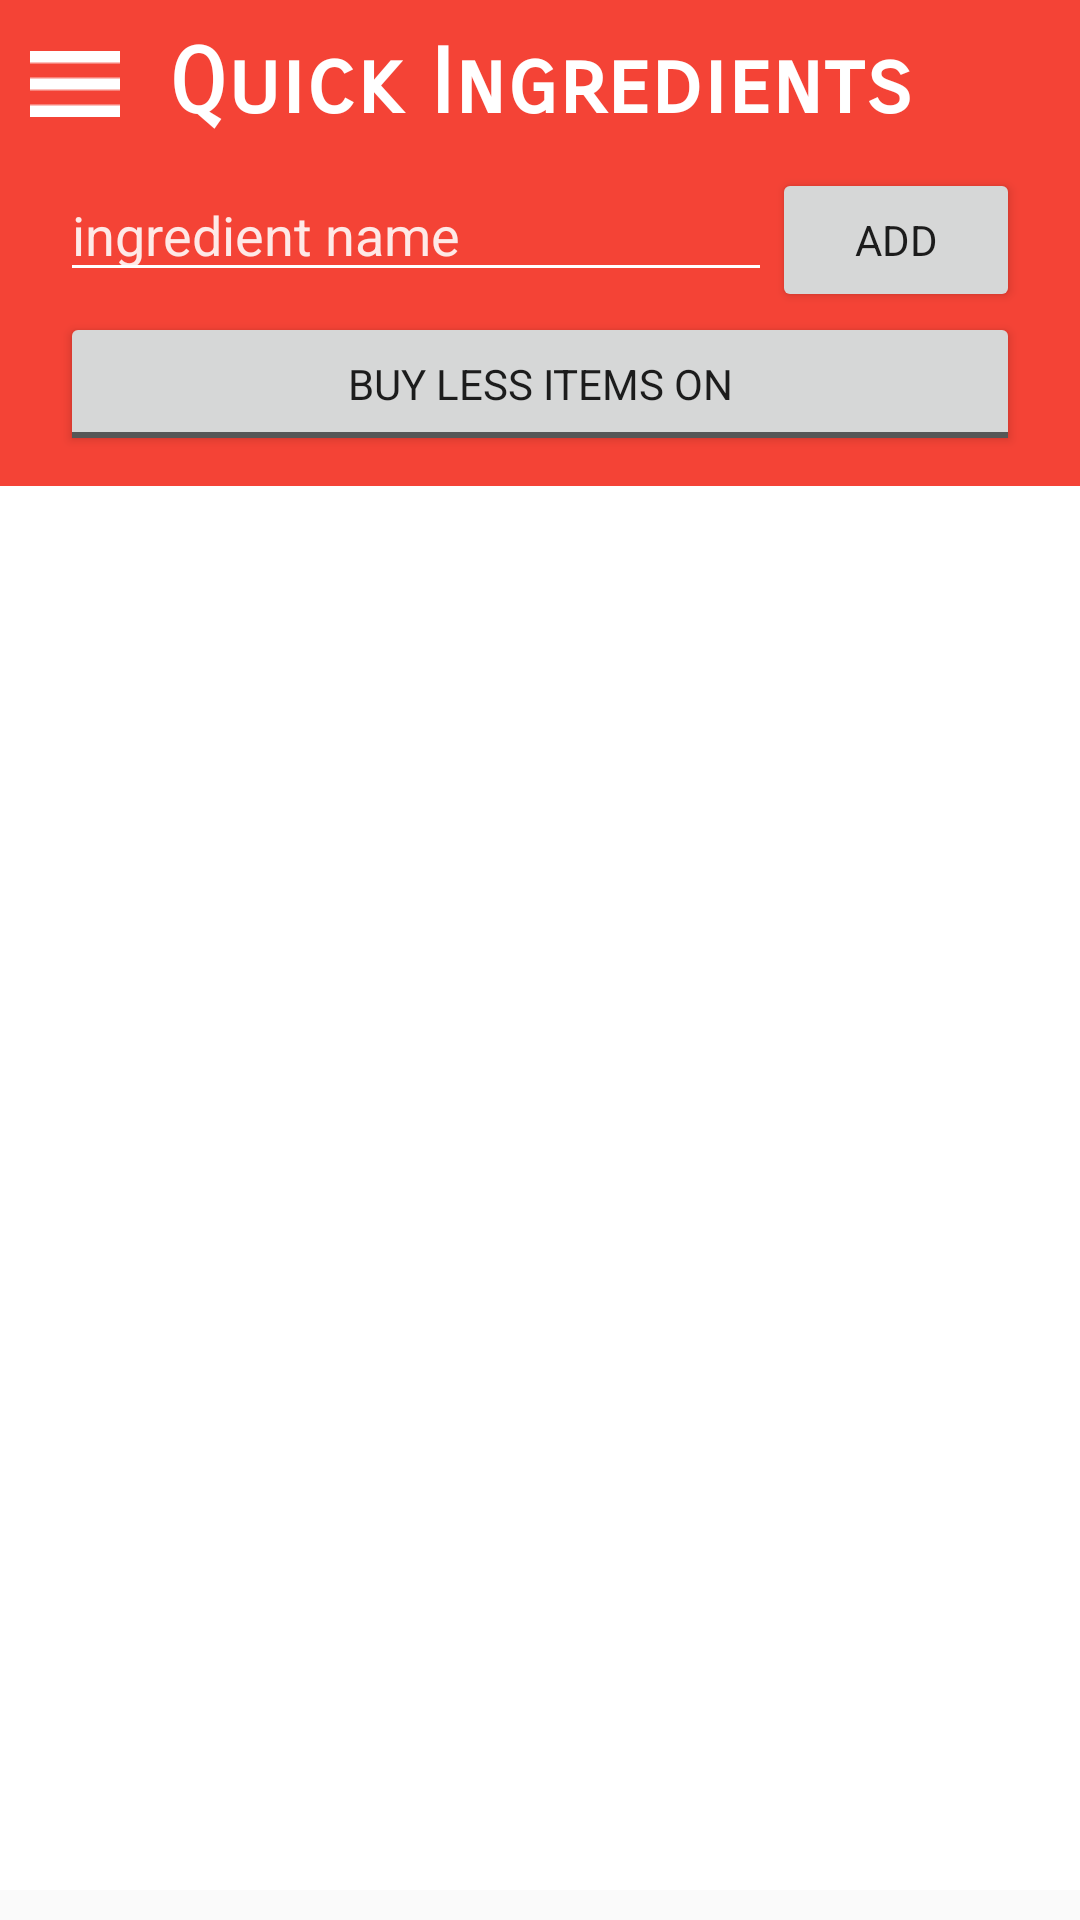

Named icons in this screenshot (1080w x 1920h) and their centers, [x,y]:
hamburger: [75,84]
